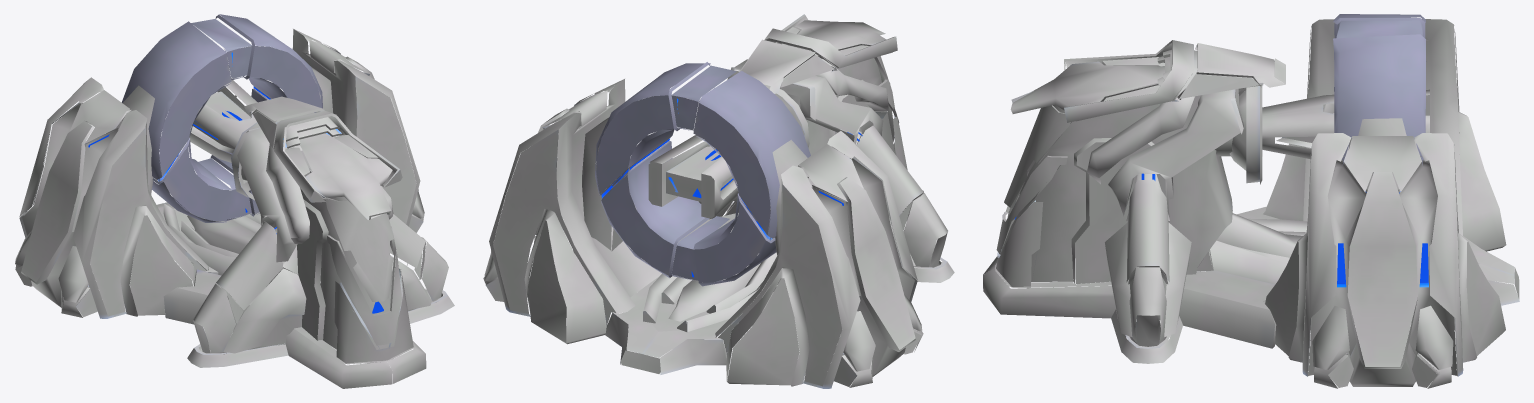
Rendered from StorageBox_TekGenerator_C.glb.
The picture shows the model from 3 angles, left to right: view 1: azimuth 30°, elevation 25°; view 2: azimuth 150°, elevation 25°; view 3: azimuth 270°, elevation 25°; orthographic projection. The views are drawn at different scales.
Parts seen in each view (by area): view 1: Tek_Generator_RIG; view 2: Tek_Generator_RIG; view 3: Tek_Generator_RIG.
Boxes of the visible parts, bbox=[...] form: Tek_Generator_RIG: bbox=[15, 14, 454, 388]; Tek_Generator_RIG: bbox=[483, 14, 954, 388]; Tek_Generator_RIG: bbox=[983, 14, 1519, 388].
Size of the model in its own units: 0.7461 by 0.4265 by 0.7823.
Materials: 1 (1 with a texture image).
